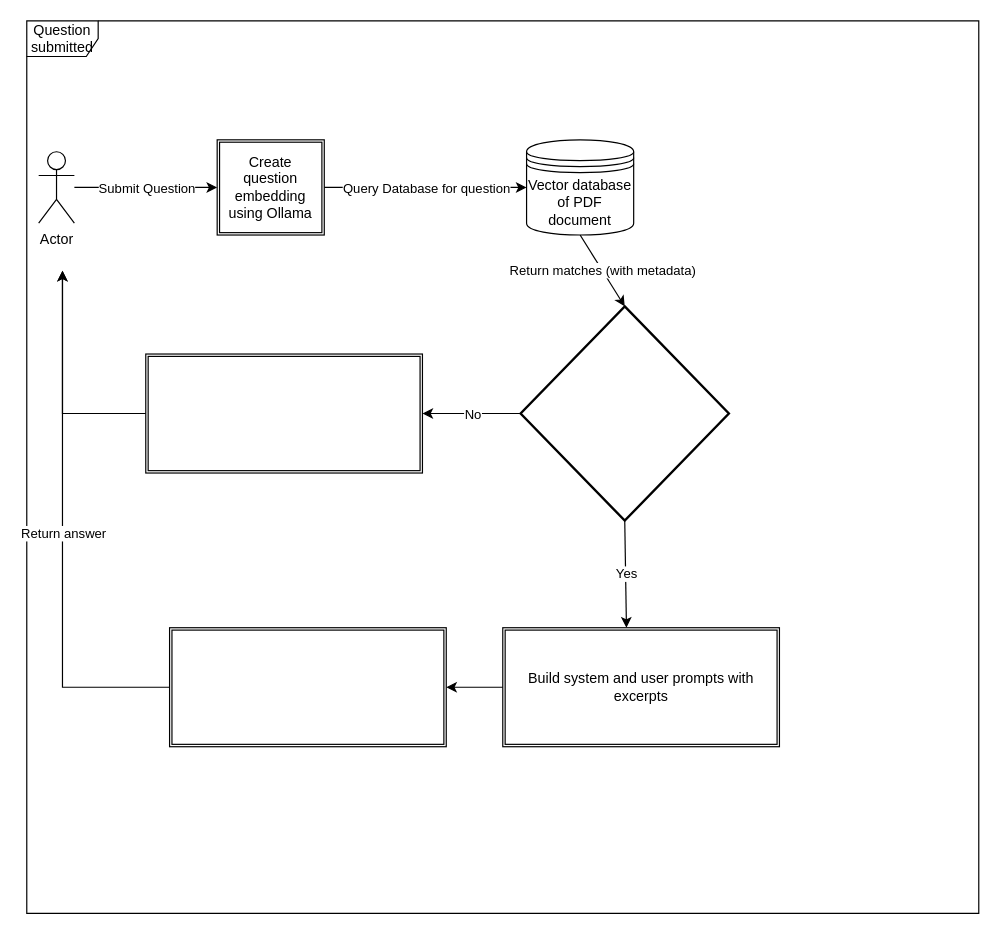
Image size: 1000x934. Some labels were removed from this diagram. Here are the shapes that lost their labels. From the top down, the centre of each, then its label:
At point (283, 413): "Print cannot answer message".
At point (624, 413): "Is closest match distance less than or equal to max_distance?".
At point (307, 687): "Call Ollama LLM model with prompts".
